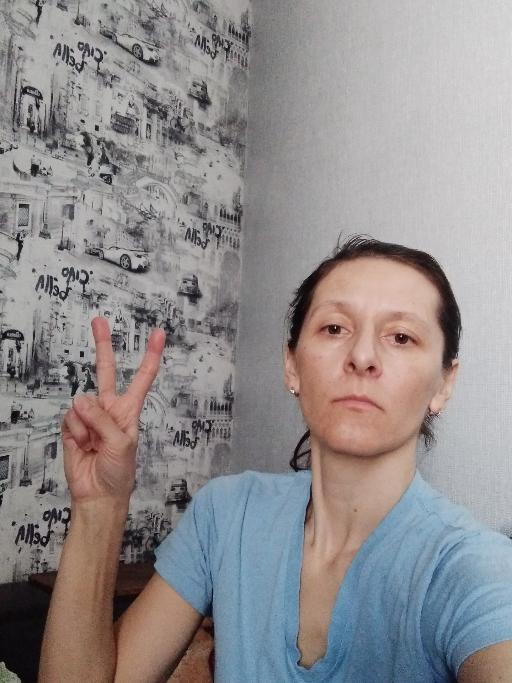peace: (59, 314, 166, 503)
